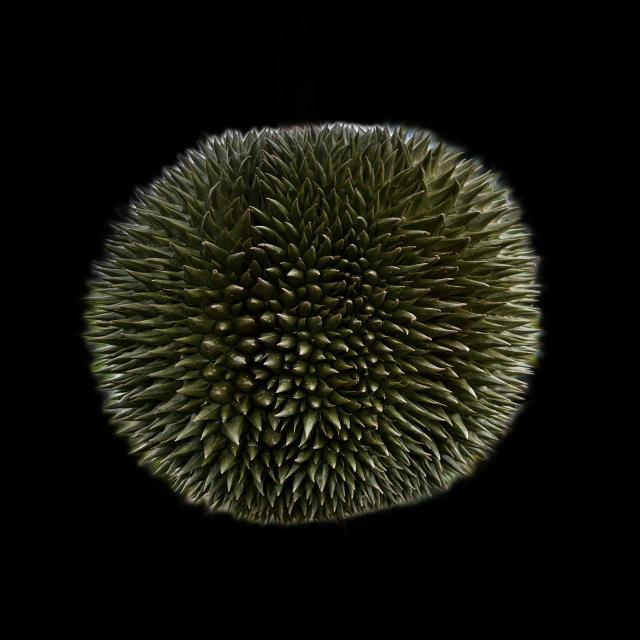immature: (80, 126, 542, 527)
